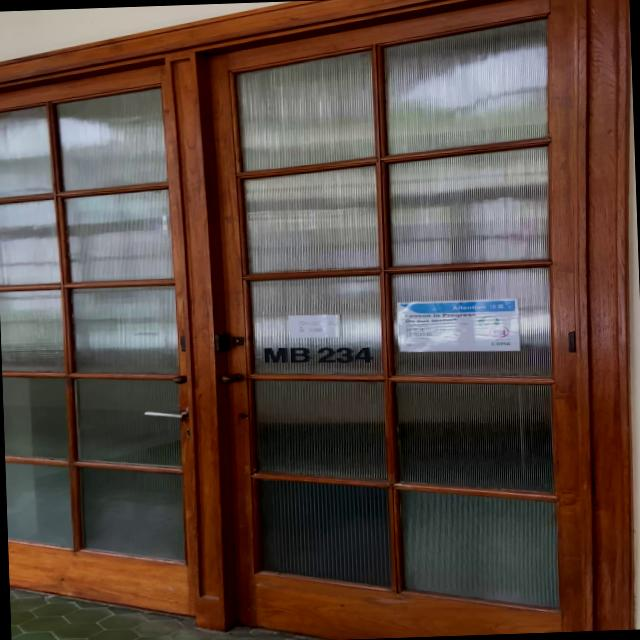room234Window: (254, 338, 381, 370)
